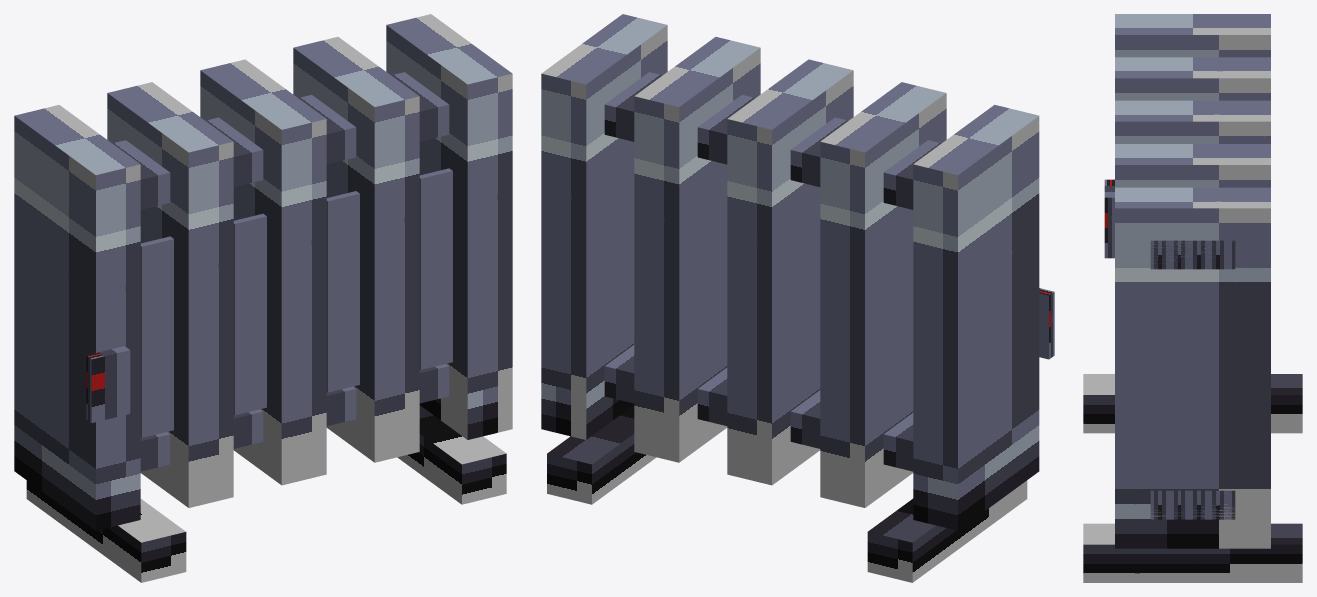
The model's file is space_heater.glb.
3 renders of one model, left to right at view 1: azimuth 30°, elevation 25°; view 2: azimuth 150°, elevation 25°; view 3: azimuth 270°, elevation 25°, orthographic. The views are drawn at different scales.
Parts seen in each view (by area): view 1: Radiator, Thermal_Core_3_sheater-off, Thermal_Core_1_sheater-off, Thermal_Core_2_sheater-off, Thermal_Core_0_sheater-off, Service_Hatch; view 2: Radiator, Service_Hatch; view 3: Radiator, Service_Hatch.
Boxes of the visible parts, box(x1,y1,x2,y2) form: Radiator: box(14, 14, 512, 582); Thermal_Core_3_sheater-off: box(419, 168, 452, 369); Thermal_Core_1_sheater-off: box(233, 213, 266, 415); Thermal_Core_2_sheater-off: box(326, 191, 359, 392); Thermal_Core_0_sheater-off: box(140, 236, 173, 437); Service_Hatch: box(86, 346, 130, 422); Radiator: box(541, 14, 1039, 582); Service_Hatch: box(1039, 288, 1054, 359); Radiator: box(1083, 14, 1302, 582); Service_Hatch: box(1104, 179, 1114, 258).
Size of what is drawn, in the model's own units: 1.33 by 1.2 by 0.62.
Materials: 1 (1 with a texture image).
